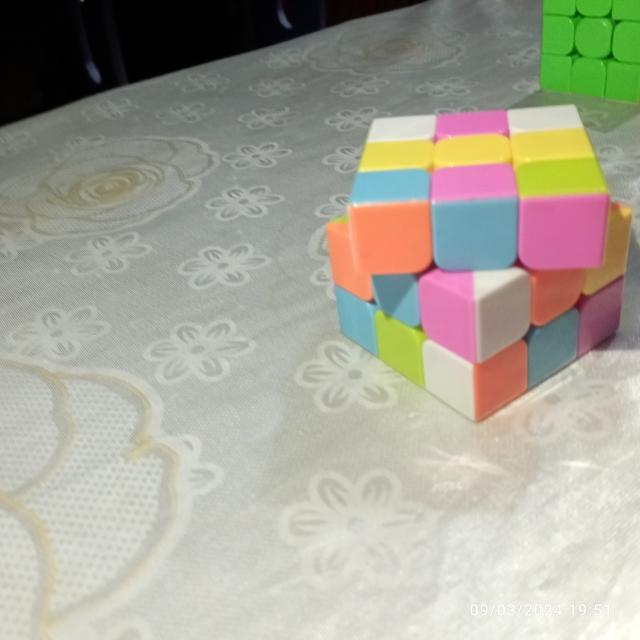Rub: (316, 99, 636, 431), (529, 0, 640, 102)
